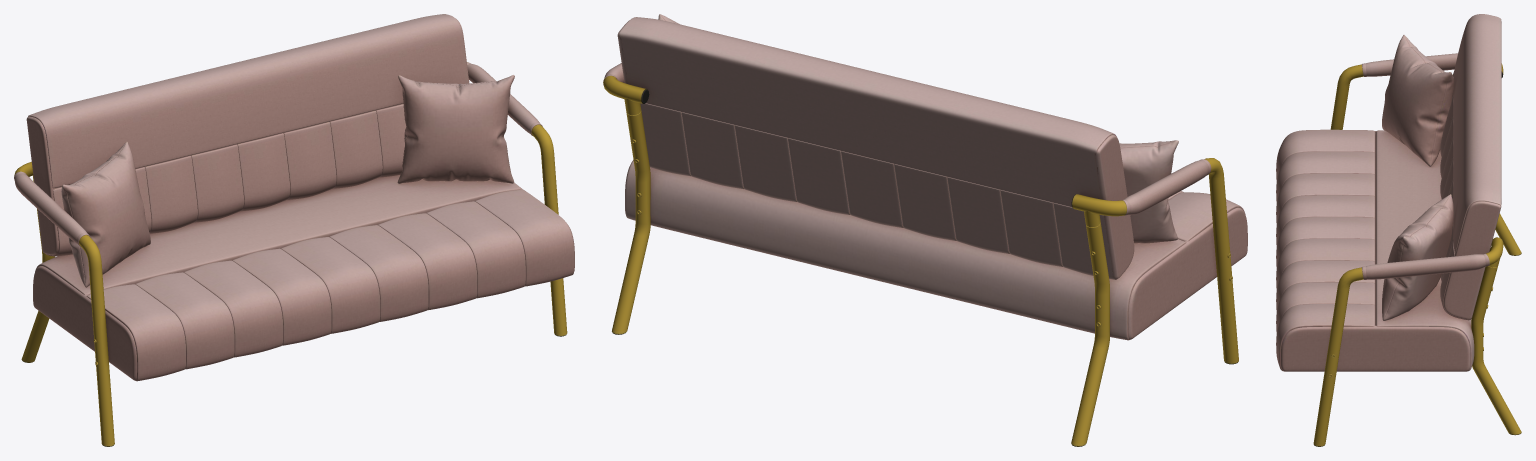
Rendered from SOFA-003.glb.
The picture shows the model from 3 angles, left to right: view 1: azimuth 30°, elevation 25°; view 2: azimuth 150°, elevation 25°; view 3: azimuth 270°, elevation 25°; orthographic projection. The views are drawn at different scales.
Parts seen in each view (by area): view 1: ASSET.018; view 2: ASSET.018; view 3: ASSET.018.
Boxes of the visible parts, <box> form: ASSET.018: <box>14,14,574,446</box>; ASSET.018: <box>603,14,1247,446</box>; ASSET.018: <box>1276,14,1521,446</box>.
Size of the model in its own units: 1.44 by 0.762 by 0.7112.
Materials: 1 (1 with a texture image).
